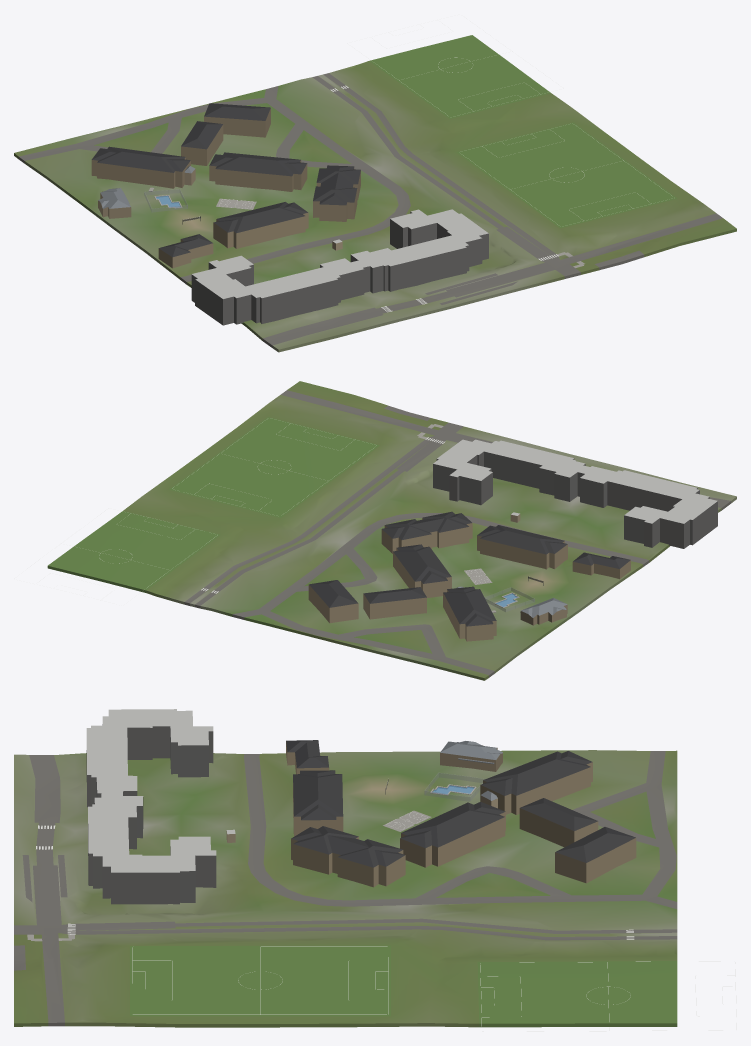
The picture shows the model from 3 angles, top to bottom: view 1: azimuth 30°, elevation 25°; view 2: azimuth 150°, elevation 25°; view 3: azimuth 270°, elevation 25°; orthographic projection. The views are drawn at different scales.
Parts seen in each view (by area): view 1: D--2-2.L0:utd:matte, D--2-2.L0:utd:matte:flat, D--2-2.L0:utd:metal:flat; view 2: D--2-2.L0:utd:matte, D--2-2.L0:utd:matte:flat, D--2-2.L0:utd:metal:flat; view 3: D--2-2.L0:utd:matte, D--2-2.L0:utd:matte:flat, D--2-2.L0:utd:paint:flat, D--2-2.L0:utd:metal:flat, D--2-2.L0:utd:glass:flat.
Boxes of the visible parts, x1,y1,x2,y2 form: D--2-2.L0:utd:matte: (14, 35, 736, 352); D--2-2.L0:utd:matte:flat: (91, 103, 488, 325); D--2-2.L0:utd:metal:flat: (98, 166, 200, 224); D--2-2.L0:utd:matte: (47, 381, 736, 680); D--2-2.L0:utd:matte:flat: (308, 439, 717, 641); D--2-2.L0:utd:metal:flat: (456, 576, 567, 617); D--2-2.L0:utd:matte: (14, 750, 677, 1027); D--2-2.L0:utd:matte:flat: (86, 709, 636, 904); D--2-2.L0:utd:paint:flat: (36, 781, 736, 1031); D--2-2.L0:utd:metal:flat: (385, 741, 502, 800); D--2-2.L0:utd:glass:flat: (386, 773, 484, 801).
Size of the model in its own units: 274 by 16.27 by 279.
